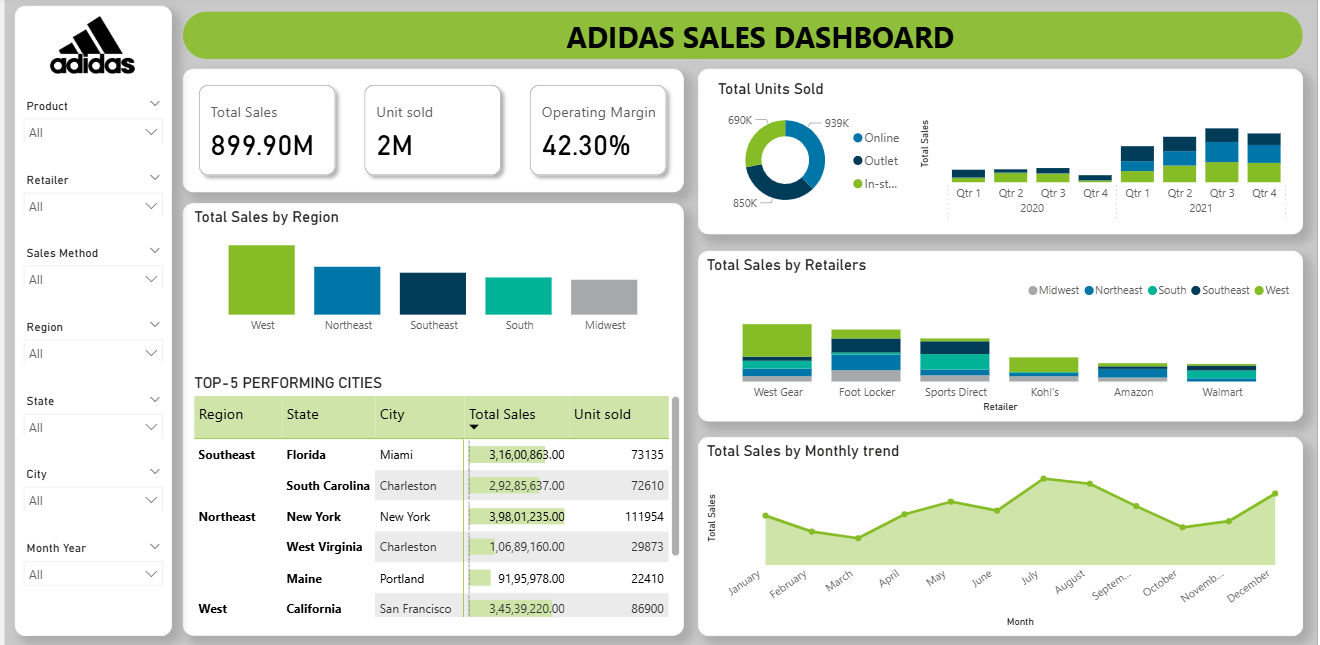

Layout of this report page (visuals, bound fields, positions):
{"tool":"powerbi","page":{"name":"Overview","canvas":[1450,720],"ordinal":0},"visuals":[{"type":"shape","box":[201.1,242.9,544.6,300.1],"z":0},{"type":"shape","box":[765.8,80.4,668.3,182.5],"z":1000},{"type":"cardVisual","fields":{"Data":["measure.Total Sales","measure.Unit sold","measure.operating margin"]},"box":[196.5,80.4,553.8,136.1],"z":2000},{"type":"donutChart","title":"Total Units Sold ","fields":{"Y":["measure.Unit sold"],"Category":["Data Sales Adidas.Sales Method"]},"box":[782.8,92.8,222.8,157.8],"z":3000},{"type":"columnChart","fields":{"Y":["measure.Total Sales"],"Category":["Data Sales Adidas.Invoice Date.Variation.Date Hierarchy.Year","Data Sales Adidas.Invoice Date.Variation.Date Hierarchy.Quarter"],"Series":["Data Sales Adidas.Sales Method"]},"box":[1005.6,106.7,428.5,150.1],"z":4000},{"type":"columnChart","title":"Total Sales by Retailers","fields":{"Category":["Data Sales Adidas.Retailer"],"Y":["Sum(Data Sales Adidas.Total Sales)"],"Series":["Data Sales Adidas.Region"]},"box":[765.8,281.6,668.3,188.7],"z":5000},{"type":"areaChart","title":"Total Sales by Monthly trend","fields":{"Category":["Data Sales Adidas.Invoice Date.Variation.Date Hierarchy.Month"],"Y":["measure.Total Sales"]},"box":[765.8,487.3,668.3,219.7],"z":6000},{"type":"shape","box":[196.5,229,553.8,478],"z":7000},{"type":"columnChart","title":"Total Sales by Region","fields":{"Y":["Sum(Data Sales Adidas.Total Sales)"],"Category":["Data Sales Adidas.Region"],"Series":["Data Sales Adidas.Region"]},"box":[204.2,233.6,539.9,148.5],"z":8000},{"type":"pivotTable","title":"TOP-5 PERFORMING CITIES","fields":{"Values":["measure.Total Sales","measure.Unit sold"],"Rows":["Data Sales Adidas.Region","Data Sales Adidas.State","Data Sales Adidas.City"]},"box":[204.2,417.7,546.1,273.8],"z":9000},{"type":"slicer","fields":{"Values":["Data Sales Adidas.Product"]},"box":[10.8,108.3,173.3,52.6],"z":10000,"group":"g1"},{"type":"shape","box":[10.8,10.8,173.3,696.2],"z":10000},{"type":"image","box":[44.9,0,103.7,108.3],"z":11000},{"type":"slicer","fields":{"Values":["Data Sales Adidas.Retailer"]},"box":[10.8,189.8,173.3,52.6],"z":11000,"group":"g1"},{"type":"shape","box":[196.5,17,1237.6,52.6],"z":12000},{"type":"slicer","fields":{"Values":["Data Sales Adidas.Sales Method"]},"box":[10.8,271.3,173.3,52.6],"z":12000,"group":"g1"},{"type":"textbox","box":[538.4,18.6,592.5,61.9],"z":13000},{"type":"slicer","fields":{"Values":["Data Sales Adidas.State"]},"box":[10.8,434.2,173.3,52.6],"z":13000,"group":"g1"},{"type":"group","id":"g1","title":"Group 1","box":[10.8,108.3,173.3,555.4],"z":14000},{"type":"slicer","fields":{"Values":["Data Sales Adidas.Region"]},"box":[10.8,352.7,173.3,52.6],"z":14000,"group":"g1"},{"type":"slicer","fields":{"Values":["Data Sales Adidas.City"]},"box":[10.8,515.7,173.3,52.6],"z":15000,"group":"g1"},{"type":"slicer","fields":{"Values":["Data Sales Adidas.Month Year"]},"box":[10.8,597.2,173.3,66.5],"z":16000,"group":"g1"}]}

Visuals, with their boxes in screenshot pixels (x1, y1, x2, y2), scaled from the page's 1450x720 canvas onto the 1320x645 screenshot:
shape: box=[183, 218, 679, 486]
shape: box=[697, 72, 1306, 236]
cardVisual - measure.Total Sales x measure.Unit sold: box=[179, 72, 683, 194]
"Total Units Sold " donutChart: box=[713, 83, 915, 224]
columnChart - measure.Total Sales x Data Sales Adidas.Invoice Date.Variation.Date Hierarchy.Year: box=[915, 96, 1306, 230]
"Total Sales by Retailers" columnChart: box=[697, 252, 1306, 421]
"Total Sales by Monthly trend" areaChart: box=[697, 437, 1306, 633]
shape: box=[179, 205, 683, 633]
"Total Sales by Region" columnChart: box=[186, 209, 677, 342]
"TOP-5 PERFORMING CITIES" pivotTable: box=[186, 374, 683, 619]
slicer - Data Sales Adidas.Product: box=[10, 97, 168, 144]
shape: box=[10, 10, 168, 633]
image: box=[41, 0, 135, 97]
slicer - Data Sales Adidas.Retailer: box=[10, 170, 168, 217]
shape: box=[179, 15, 1306, 62]
slicer - Data Sales Adidas.Sales Method: box=[10, 243, 168, 290]
textbox: box=[490, 17, 1030, 72]
slicer - Data Sales Adidas.State: box=[10, 389, 168, 436]
"Group 1" group: box=[10, 97, 168, 595]
slicer - Data Sales Adidas.Region: box=[10, 316, 168, 363]
slicer - Data Sales Adidas.City: box=[10, 462, 168, 509]
slicer - Data Sales Adidas.Month Year: box=[10, 535, 168, 595]
